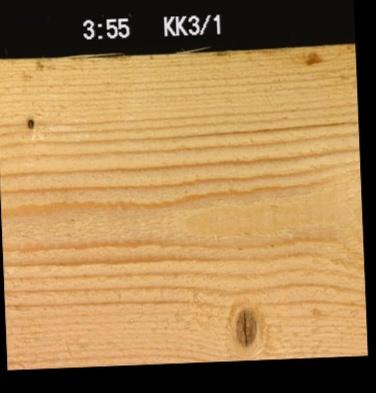dry_knot: (25, 116, 34, 128)
sound_knot: (232, 306, 258, 345)
